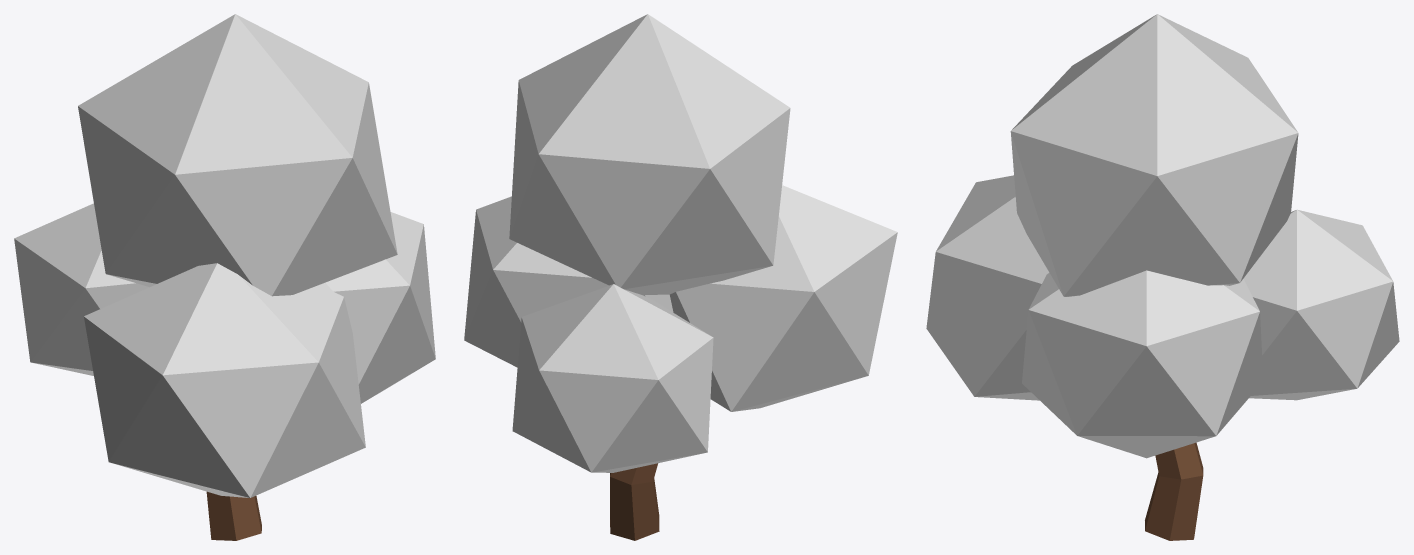
The model's file is tree_oak_1.glb.
3 renders of one model, left to right at view 1: azimuth 30°, elevation 25°; view 2: azimuth 150°, elevation 25°; view 3: azimuth 270°, elevation 25°, orthographic. The views are drawn at different scales.
Visible parts, largest first — view 1: tree_oak_1; view 2: tree_oak_1; view 3: tree_oak_1.
Part boxes in pixels (box(x1,y1,x2,y2)): tree_oak_1: box(14, 14, 435, 540); tree_oak_1: box(464, 14, 897, 540); tree_oak_1: box(926, 14, 1399, 540).
Size of the model in its own units: 3.68 by 5.17 by 4.28.
